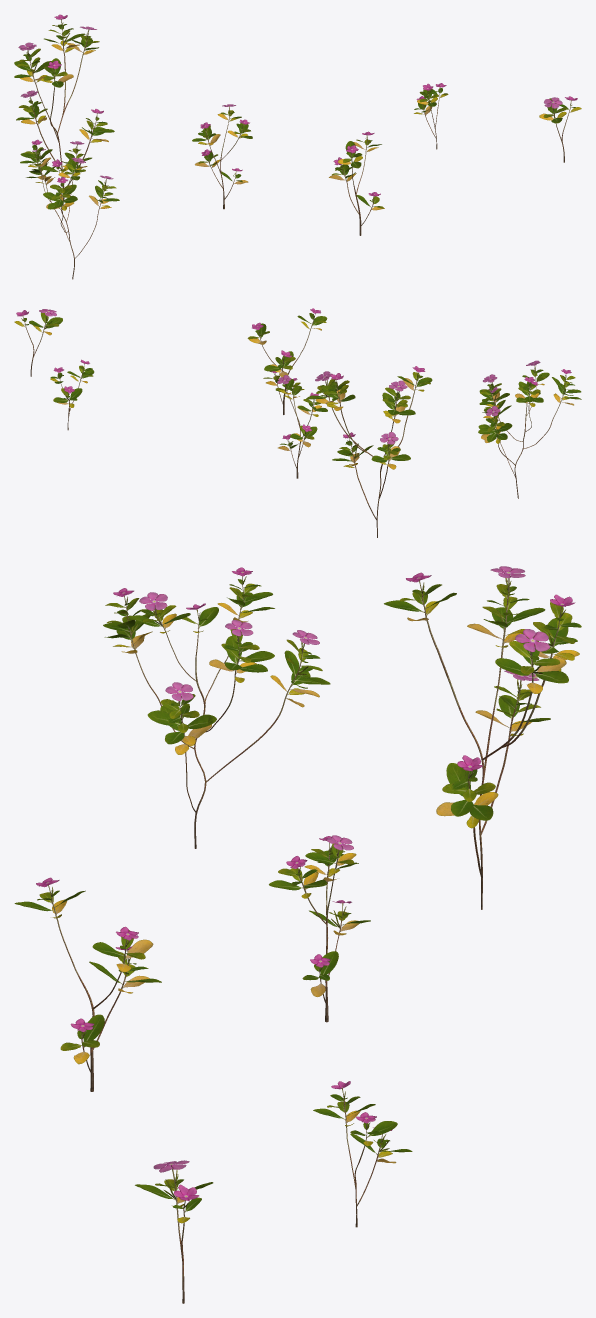
The model's file is f3_v2_wildflower_colony.glb.
3 views of the same model, one above another, from view 1: azimuth 30°, elevation 25°; view 2: azimuth 150°, elevation 25°; view 3: azimuth 270°, elevation 25° (orthographic). The views are drawn at different scales.
Visible parts, largest first — view 1: f3_v2_polyhaven_periwinkle_plant_surface; view 2: f3_v2_polyhaven_periwinkle_plant_surface; view 3: f3_v2_polyhaven_periwinkle_plant_surface.
Part boxes in pixels (bbox=[...]): f3_v2_polyhaven_periwinkle_plant_surface: bbox=[14, 14, 581, 279]; f3_v2_polyhaven_periwinkle_plant_surface: bbox=[14, 308, 581, 537]; f3_v2_polyhaven_periwinkle_plant_surface: bbox=[14, 566, 581, 1303].
Bounding box in the file's own units: 1.41 × 0.423 × 0.6623.
Materials: 1 (1 with a texture image).
